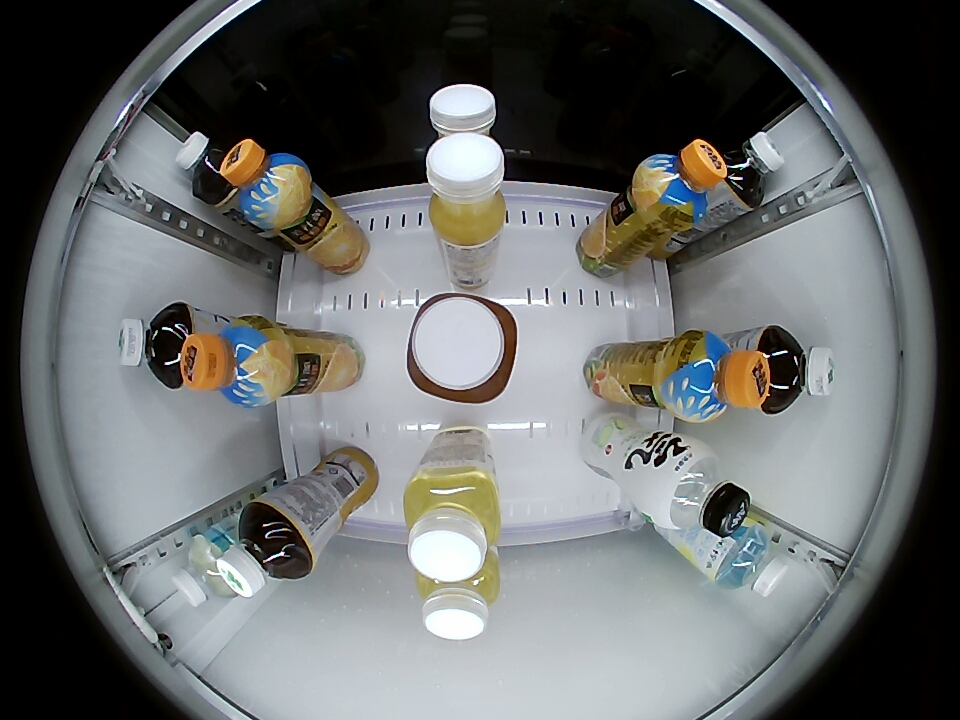chapai: (406, 291, 519, 404)
chapai2: (403, 468, 501, 584), (415, 556, 501, 640)
damaicha: (216, 502, 312, 597), (756, 325, 837, 414), (116, 301, 192, 390), (716, 132, 784, 207)
guolicheng: (662, 330, 771, 423), (180, 318, 286, 407), (635, 139, 725, 231), (221, 139, 311, 229)
nfc: (425, 133, 510, 246), (428, 84, 498, 140)
qinningshui: (711, 524, 789, 597), (173, 532, 237, 606)
wulongcha: (176, 131, 237, 203)
yuanqishui: (640, 439, 751, 536)
